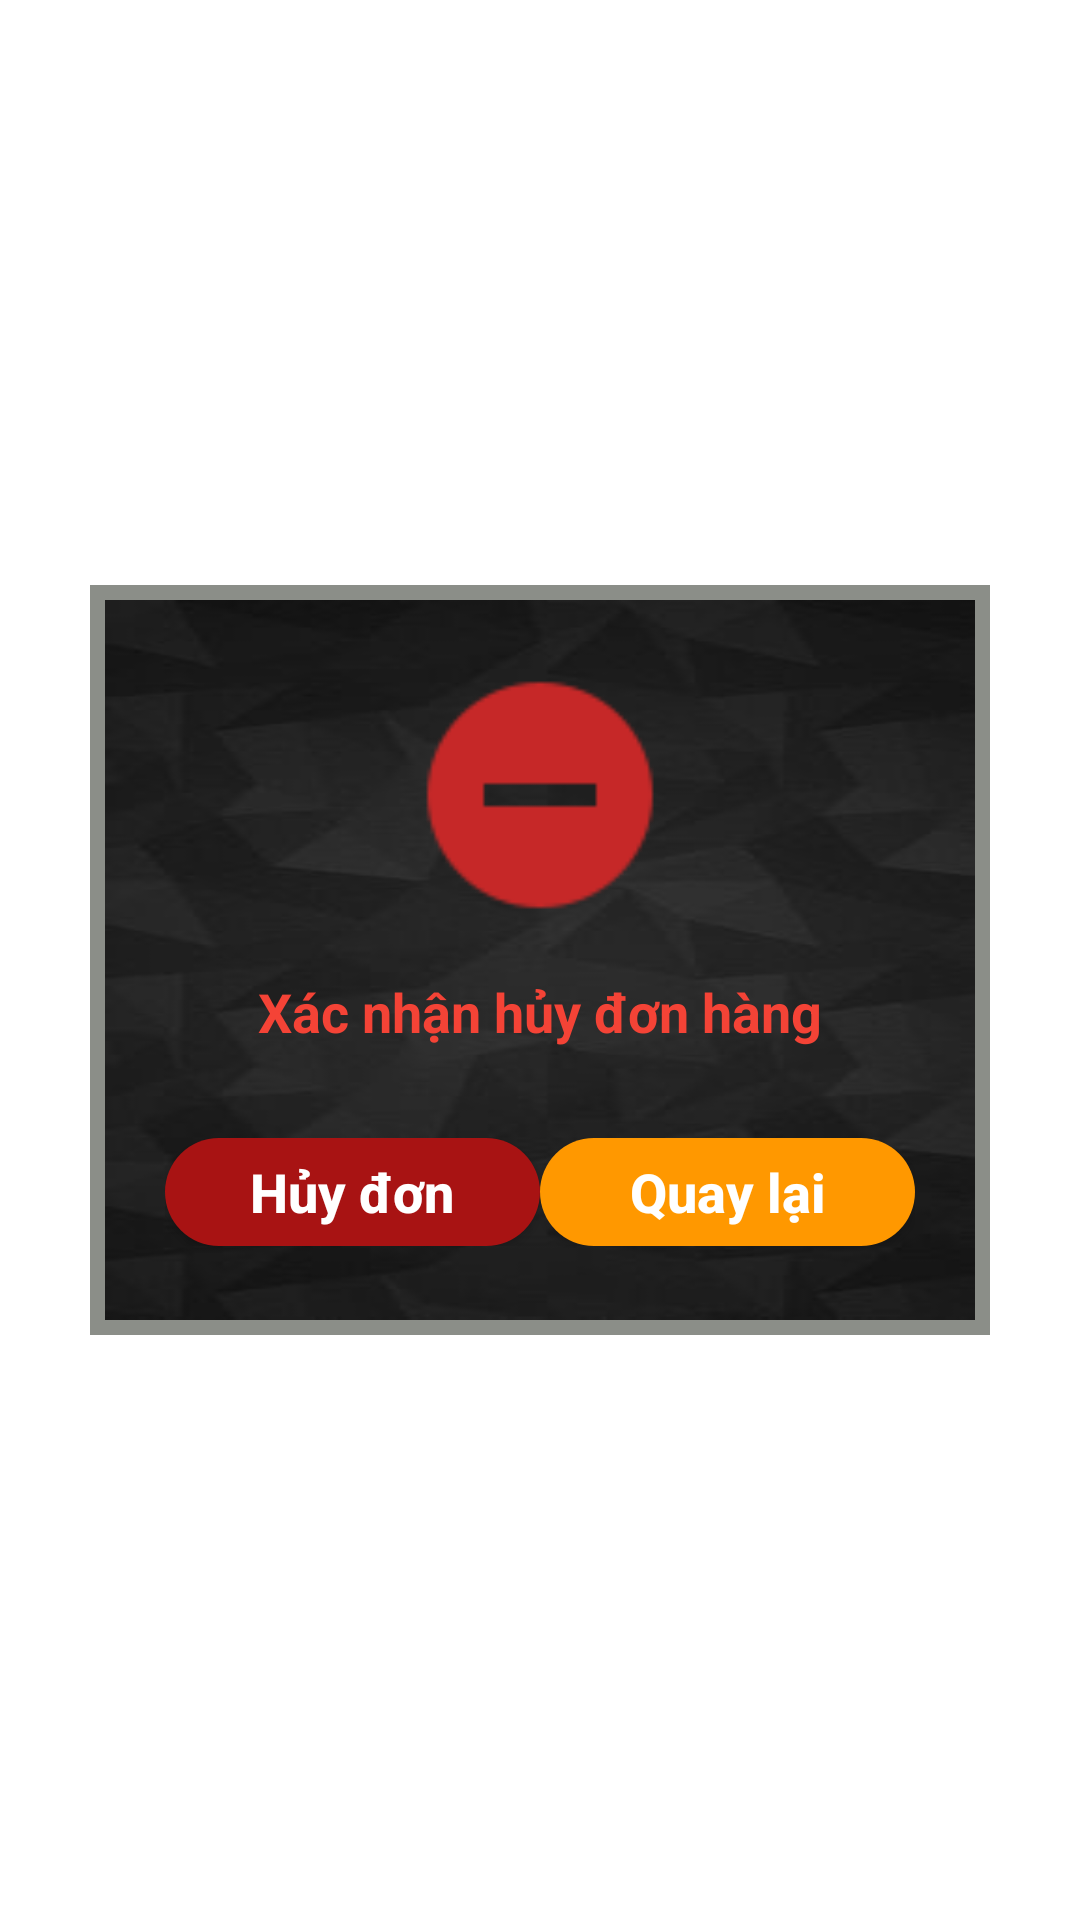

Locate icon controls on the screen. Image size 1080px×1920px, boxes as (x1, y1, x2, y2).
remove circle: (426, 681, 654, 909)
